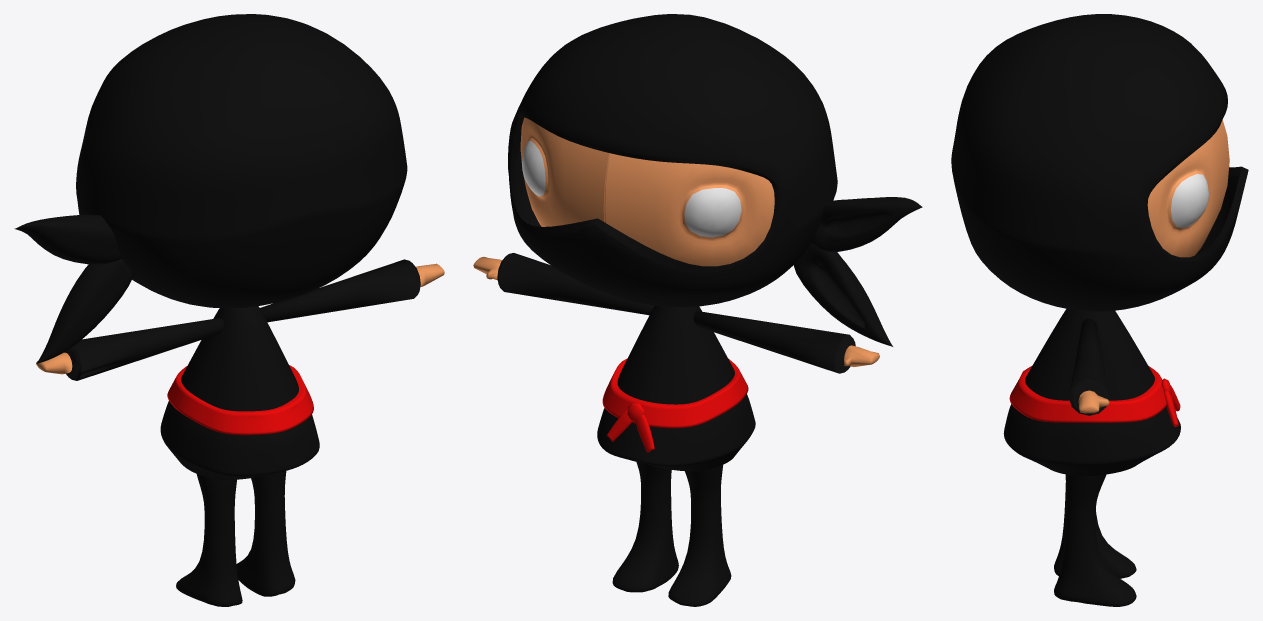
File: Spyware.fbx
The picture shows the model from 3 angles, left to right: view 1: azimuth 30°, elevation 25°; view 2: azimuth 150°, elevation 25°; view 3: azimuth 270°, elevation 25°; orthographic projection.
Visible parts, largest first — view 1: Cube.003, Cone.003, Cylinder.001, Cylinder, Cube, Cone.004, Cube.001; view 2: Cube.003, Cube.002, Cone.003, Cylinder, Cylinder.001, Cube, Cube.001, Cone.004; view 3: Cube.003, Cone.003, Cylinder, Cube.002, Cone.004, Cylinder.001.
Boxes of the visible parts, x1,y1,x2,y2 form: Cube.003: (76,14,407,308); Cone.003: (160,306,319,479); Cylinder.001: (36,259,444,380); Cylinder: (176,471,295,606); Cube: (36,259,133,363); Cone.004: (167,365,313,435); Cube.001: (14,214,121,264); Cube.003: (508,14,837,307); Cube.002: (520,117,774,266); Cone.003: (597,305,755,471); Cylinder: (612,462,731,606); Cylinder.001: (473,253,879,373); Cube: (793,243,892,346); Cube.001: (811,197,922,251); Cone.004: (602,358,748,428); Cube.003: (951,14,1248,311); Cone.003: (1003,308,1180,475); Cylinder: (1054,474,1136,606); Cube.002: (1147,120,1229,257); Cone.004: (1009,366,1166,422); Cylinder.001: (1069,318,1109,415).
Bounding box in the file's own units: 308 × 375 × 182.
